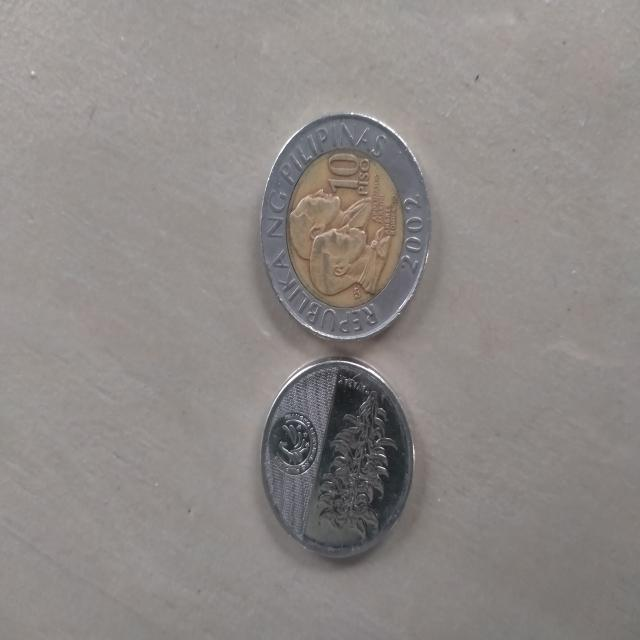10_Old_Front: (277, 130, 416, 321)
5_New_Back: (318, 380, 395, 548)
